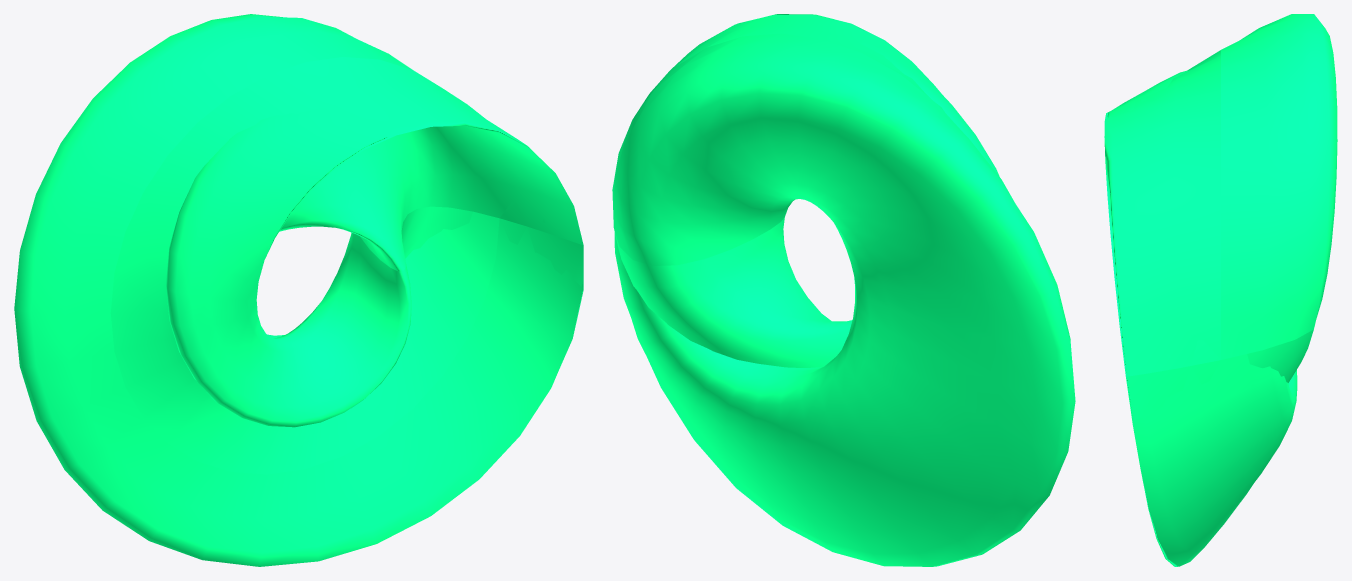
File: klein_bottle_4d_ar_universal.glb
The picture shows the model from 3 angles, left to right: view 1: azimuth 30°, elevation 25°; view 2: azimuth 150°, elevation 25°; view 3: azimuth 270°, elevation 25°; orthographic projection. The views are drawn at different scales.
Visible parts, largest first — view 1: klein_bottle_4d_ar; view 2: klein_bottle_4d_ar; view 3: klein_bottle_4d_ar.
Part boxes in pixels (left/top/right/bottom): klein_bottle_4d_ar: left=14, top=14, right=583, bottom=566; klein_bottle_4d_ar: left=612, top=14, right=1075, bottom=566; klein_bottle_4d_ar: left=1104, top=14, right=1337, bottom=566.
Size of the model in its own units: 1 by 0.9789 by 0.4193.
